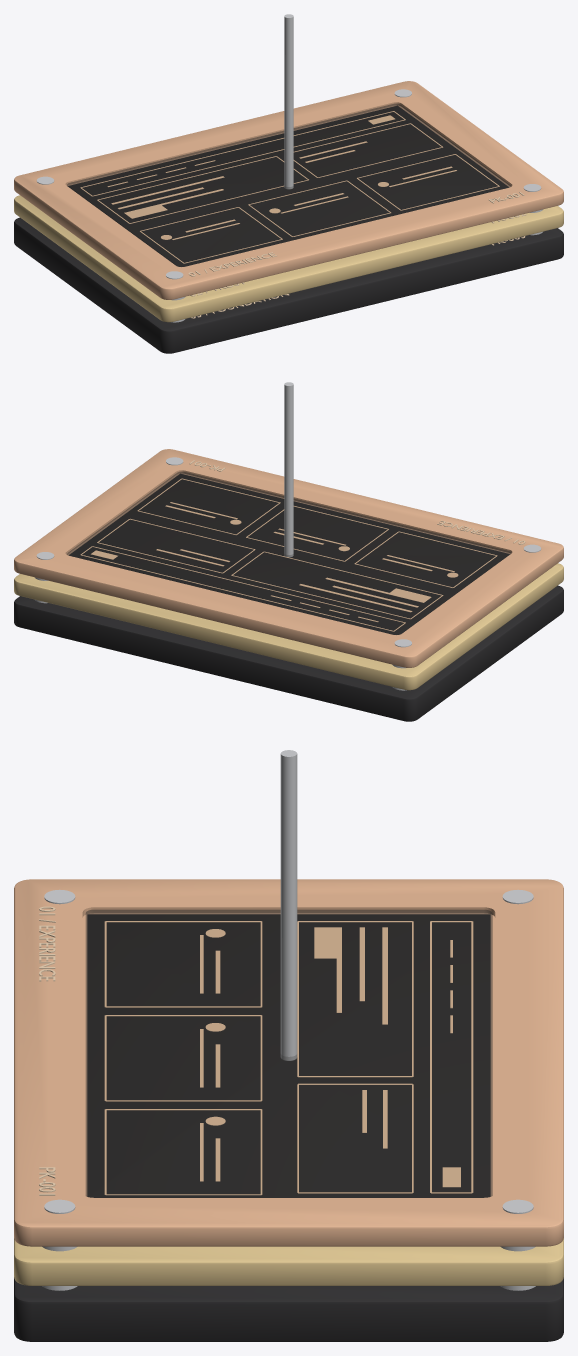
Rendered from strata.glb.
3 renders of one model, top to bottom at view 1: azimuth 30°, elevation 25°; view 2: azimuth 150°, elevation 25°; view 3: azimuth 270°, elevation 25°, orthographic. The views are drawn at different scales.
Parts seen in each view (by area): view 1: experience_glass, experience_panel, experience_copper, foundation_anodised, trust_brass, experience_glow, RodShaft, experience_steel, experience_lettering; view 2: experience_glass, experience_panel, experience_copper, foundation_anodised, trust_brass, experience_glow, RodShaft, experience_steel, experience_lettering; view 3: experience_glass, experience_panel, experience_copper, foundation_anodised, trust_brass, experience_glow, RodShaft, experience_steel, experience_lettering.
Boxes of the visible parts, x1,y1,x2,y2 form: experience_glass: [67, 103, 510, 266]; experience_panel: [67, 105, 508, 266]; experience_copper: [14, 81, 563, 299]; foundation_anodised: [14, 217, 563, 353]; trust_brass: [14, 195, 563, 322]; experience_glow: [80, 111, 499, 263]; RodShaft: [284, 14, 293, 189]; experience_steel: [36, 89, 542, 300]; experience_lettering: [188, 192, 524, 276]; experience_glass: [67, 471, 510, 634]; experience_panel: [69, 473, 510, 634]; experience_copper: [14, 449, 563, 667]; foundation_anodised: [14, 585, 563, 721]; trust_brass: [14, 563, 563, 690]; experience_glow: [80, 478, 497, 631]; RodShaft: [284, 382, 293, 557]; experience_steel: [35, 457, 541, 668]; experience_lettering: [189, 460, 525, 544]; experience_glass: [85, 909, 492, 1197]; experience_panel: [87, 914, 490, 1197]; experience_copper: [14, 879, 563, 1246]; foundation_anodised: [14, 1277, 563, 1341]; trust_brass: [14, 1238, 563, 1285]; experience_glow: [104, 921, 473, 1195]; RodShaft: [280, 750, 297, 1060]; experience_steel: [42, 889, 535, 1251]; experience_lettering: [39, 906, 55, 1195].
Bounding box in the file's own units: 1.8 × 1.03 × 1.2.
